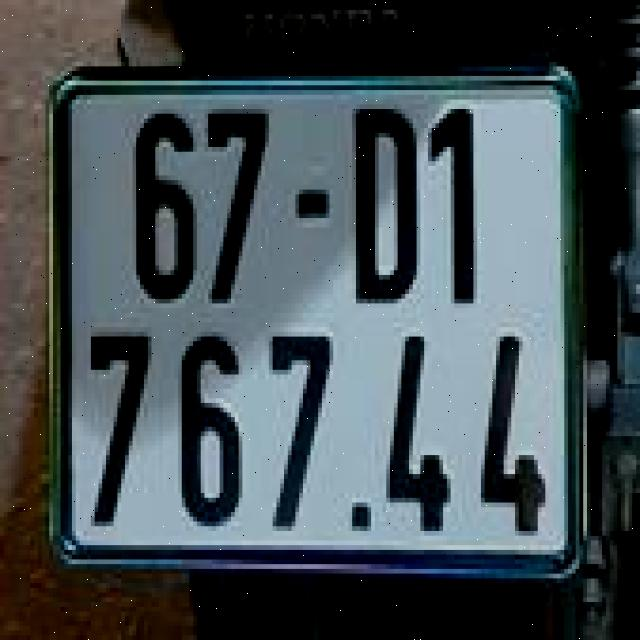1: (428, 102, 492, 310)
4: (470, 327, 568, 545), (386, 330, 454, 548)
6: (114, 107, 204, 320), (172, 322, 248, 531)
7: (195, 99, 282, 313), (261, 325, 345, 533), (82, 318, 157, 536)
D: (335, 95, 422, 318)
